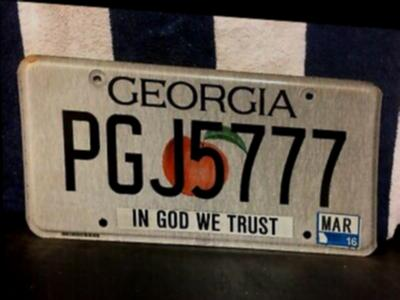License_Plate: (9, 47, 388, 267)
